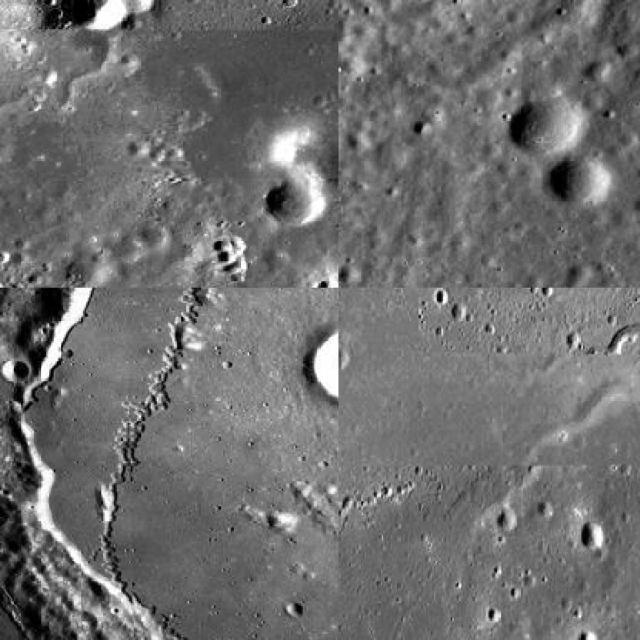rille: (95, 287, 337, 638), (0, 0, 227, 218), (338, 0, 638, 97), (603, 317, 639, 363)
